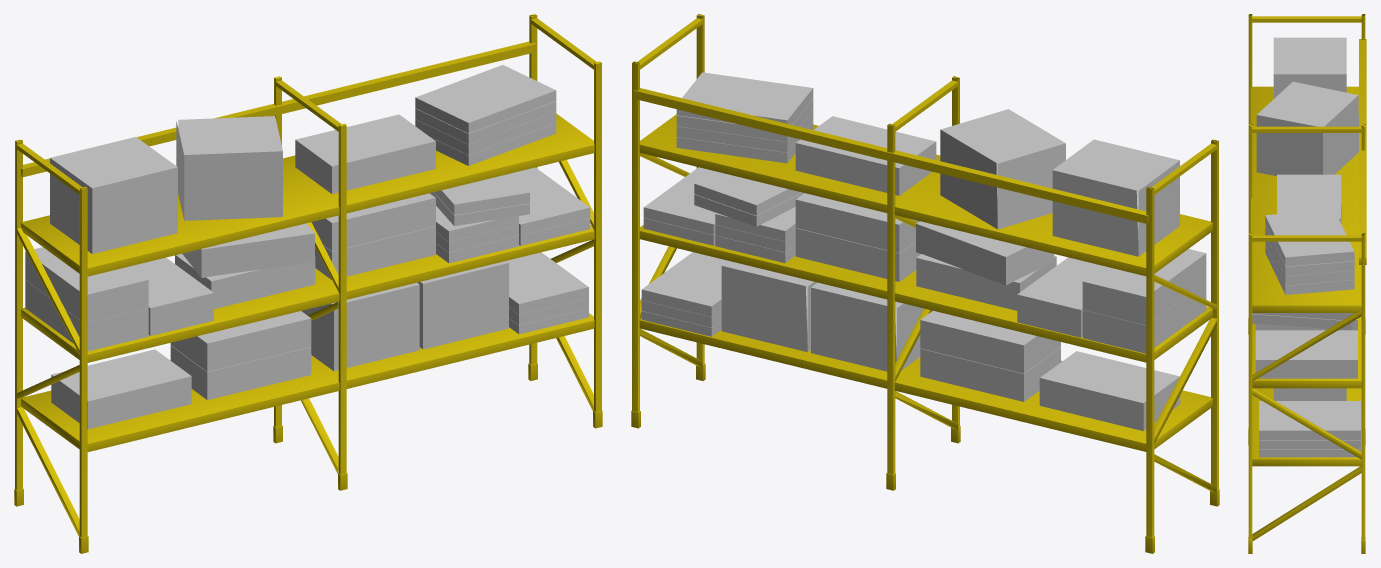
The model's file is ShelfD_01.glb.
3 views of the same model, side by side, from view 1: azimuth 30°, elevation 25°; view 2: azimuth 150°, elevation 25°; view 3: azimuth 270°, elevation 25° (orthographic). The views are drawn at different scales.
Visible parts, largest first — view 1: aws_robomaker_warehouse_ShelfD_01_visual; view 2: aws_robomaker_warehouse_ShelfD_01_visual; view 3: aws_robomaker_warehouse_ShelfD_01_visual.
Part boxes in pixels (x1,y1,x2,y2): aws_robomaker_warehouse_ShelfD_01_visual: (14,14,602,553); aws_robomaker_warehouse_ShelfD_01_visual: (631,14,1219,553); aws_robomaker_warehouse_ShelfD_01_visual: (1248,14,1366,553).
Bounding box in the file's own units: 3.92 × 2.61 × 0.8795.
5 materials, 4 textured.
